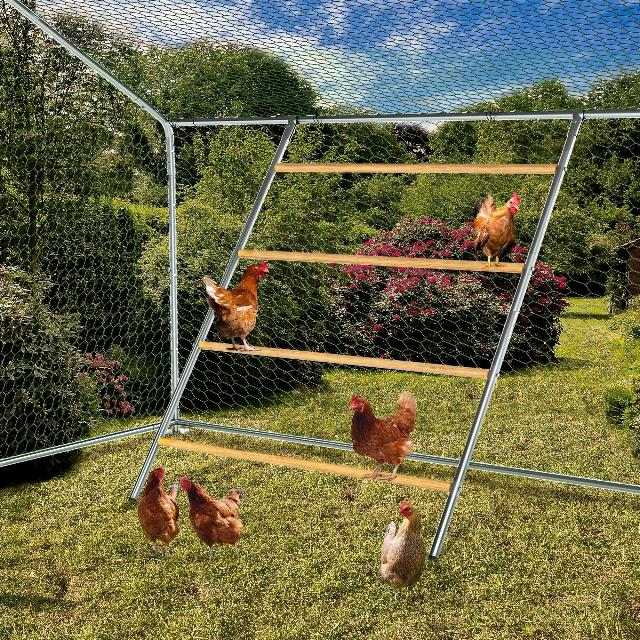Chicken: (197, 257, 278, 352), (349, 392, 422, 484), (178, 473, 245, 549), (376, 501, 429, 596), (472, 189, 527, 264), (139, 461, 182, 546)
